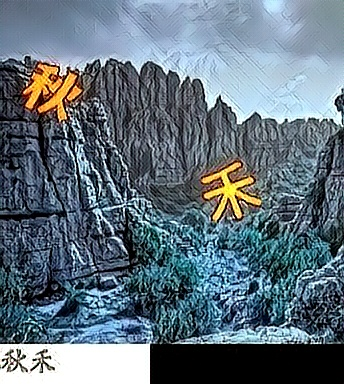BACC: (201, 159, 263, 223)
C7EF: (21, 59, 83, 123)
